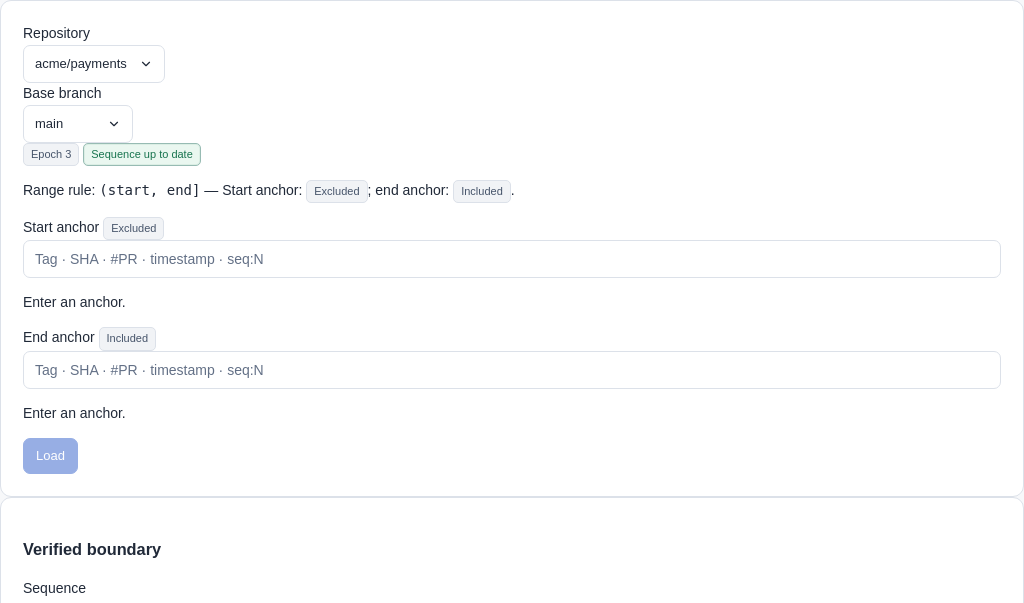
Test: 조회 전 사전 판정 (QA-W004-07·08·09) › **5만 건 초과는 조회 전에 안내한다**
Type "seq:1" into the field with test id "anchor-from-input" at (512, 259), box [35,241,989,277]
Then press Enter
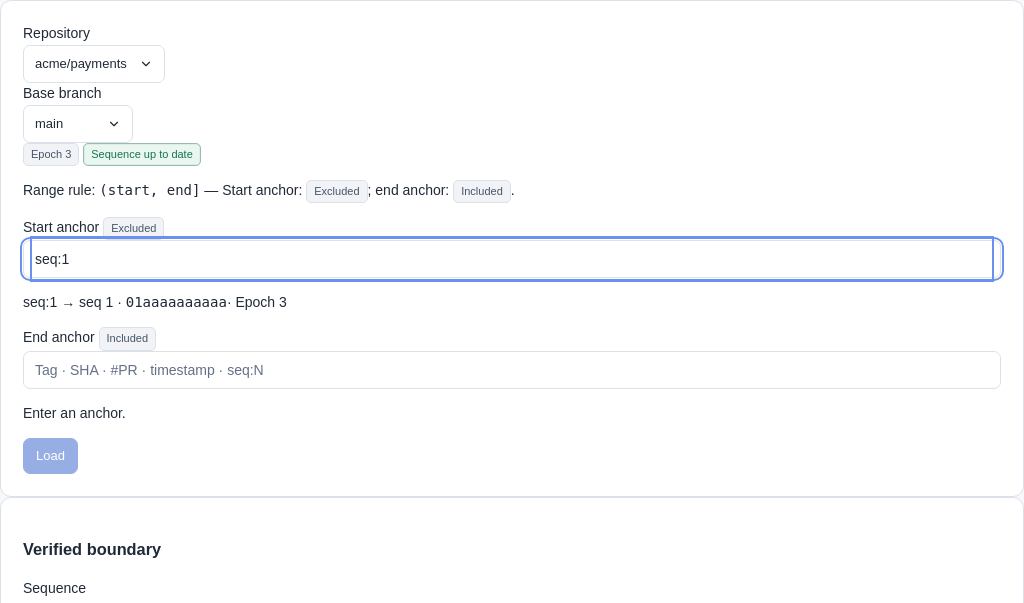
Type "seq:60001" into the field with test id "anchor-to-input" at (512, 370), box [35,352,989,388]
Then press Enter
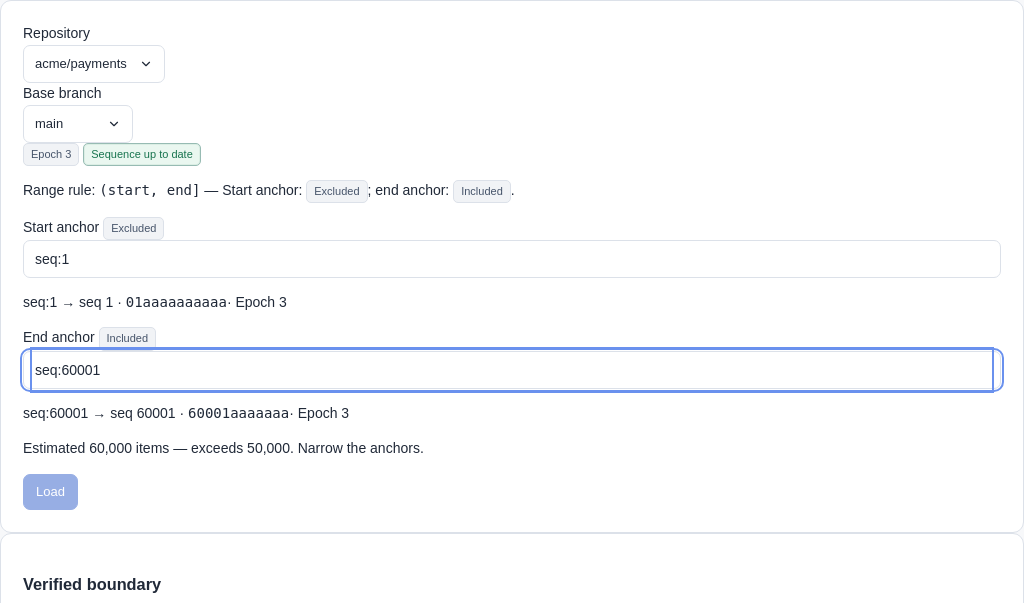
Expected: the button with test id "range-query" is disabled, [23,474,78,510]
Expected: the message "Estimated 60,000 items — exceeds 50,000. Narrow the anchors." is shown, [23,440,424,456]
